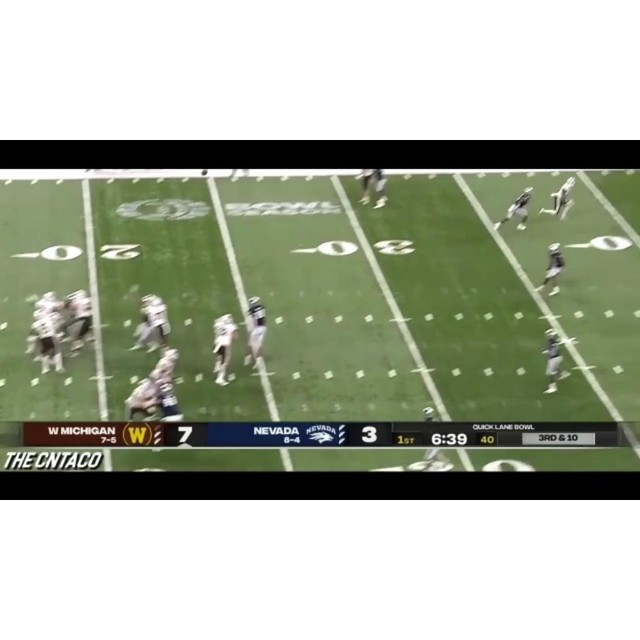american-football-player: (408, 406, 452, 473), (134, 293, 173, 353), (30, 311, 66, 376), (538, 329, 572, 395), (210, 314, 240, 386), (64, 288, 98, 350), (242, 298, 270, 370), (493, 186, 535, 232), (533, 243, 567, 298), (538, 176, 577, 222), (124, 376, 161, 421), (157, 378, 184, 422), (354, 170, 384, 208), (149, 347, 181, 381)
